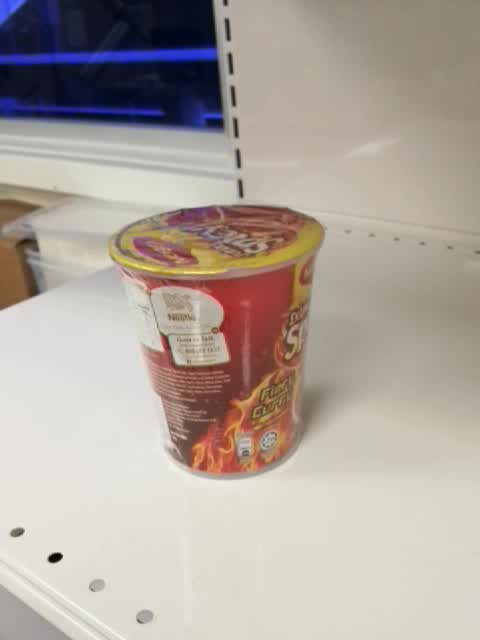maggi: (107, 203, 327, 480)
